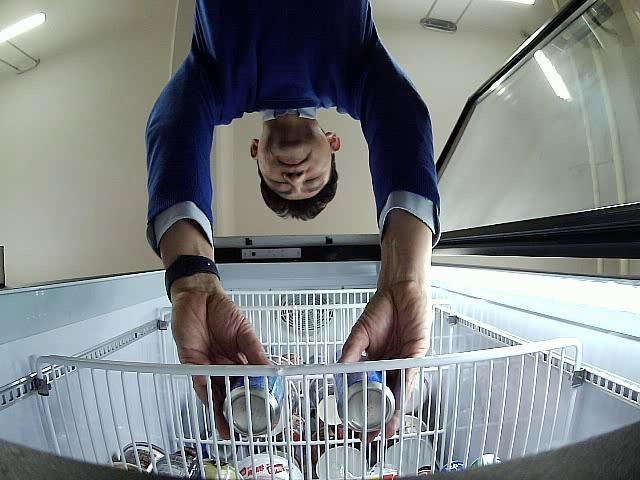15_letsbe: (338, 356, 397, 432), (223, 378, 285, 436)
